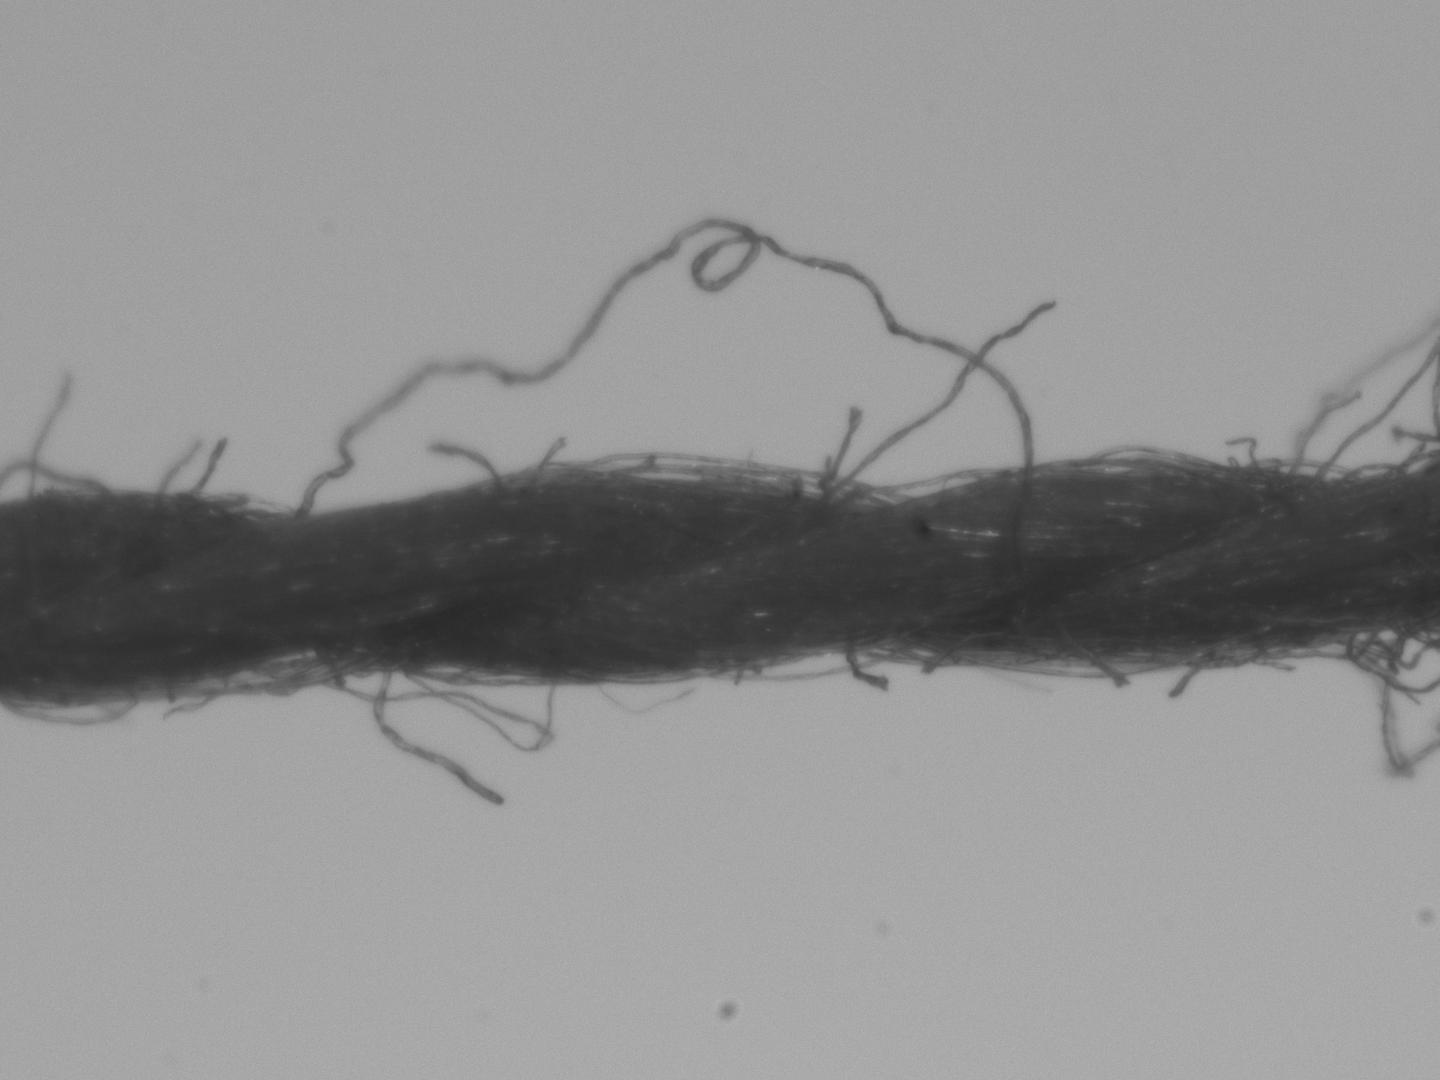loop_fiber: (550, 454, 892, 509), (830, 470, 1010, 516), (2, 687, 135, 726), (1065, 444, 1231, 474), (403, 658, 596, 684), (1365, 616, 1439, 673), (1253, 626, 1379, 659), (1002, 655, 1170, 674), (853, 648, 1002, 666), (1331, 615, 1421, 643), (1247, 459, 1348, 483), (1061, 458, 1203, 473), (1331, 459, 1406, 487), (890, 641, 958, 664), (407, 657, 471, 678)
protruding_fiber: (831, 295, 1059, 503), (373, 657, 503, 808), (814, 408, 861, 515), (1069, 634, 1130, 687), (434, 440, 499, 488), (187, 440, 229, 504), (1169, 652, 1219, 698), (842, 649, 887, 689)
